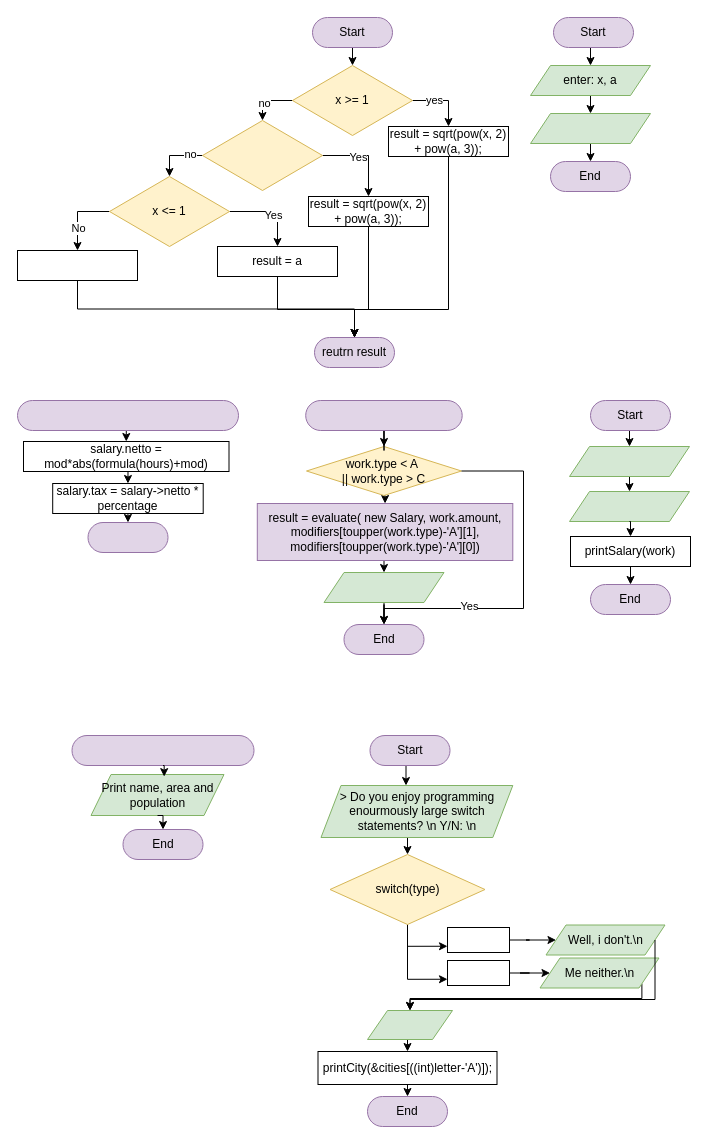
This 708x1144 diagram has some shape labels left out. Here are the shapes that lost their labels. From the top down, the box of each, then its label:
(530, 112, 650, 144): print: "- result ", evaluate(x, a)
(202, 120, 322, 190): -1 < x < 1
(16, 250, 138, 280): result = E^x
(16, 400, 238, 430): Salary* evaluate (Salary *salary, float hours, float mod, float percentage)
(305, 400, 462, 430): void printSalary(Work work)
(568, 446, 690, 476): enter work.type
(568, 490, 690, 522): enter work.amount
(87, 522, 168, 552): return salary
(323, 572, 444, 602): print netto, brutto
(71, 734, 254, 766): void printCity(const City *city)
(446, 926, 510, 952): case Y
(446, 960, 510, 986): case N
(366, 1010, 452, 1040): Enter letter
